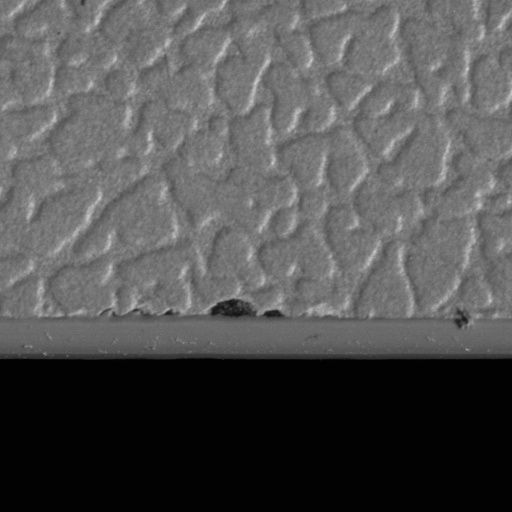bengque: (197, 293, 286, 320)
